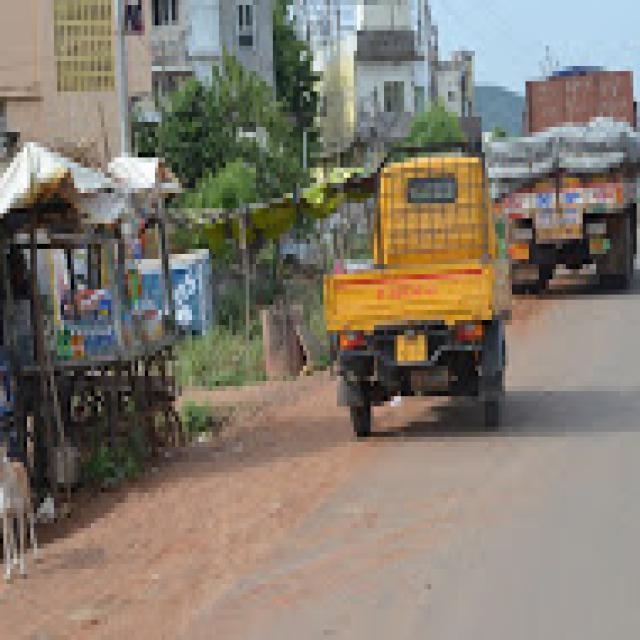auto_back: (308, 142, 522, 444)
truck_back: (489, 72, 640, 299)
